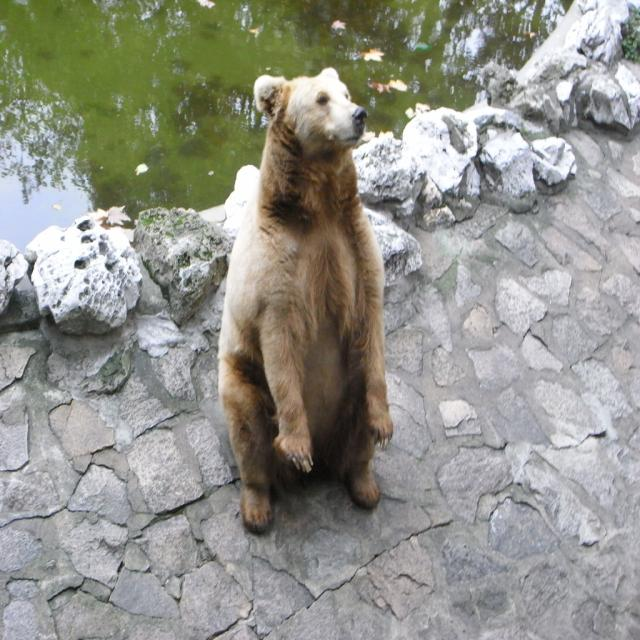Cheetahs: (217, 64, 394, 535)
